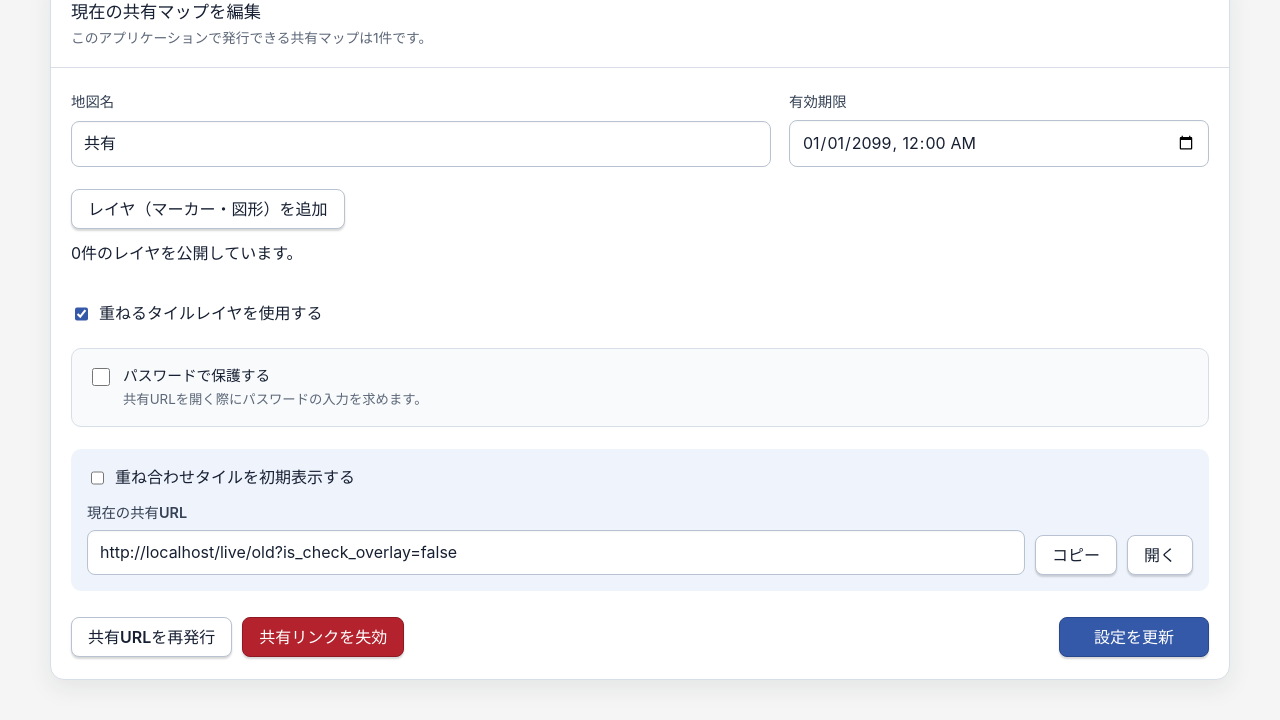
it: 共有リンク管理の失敗と確認操作 › 一覧取得とURLコピーの失敗を通知する
(page scrolled)
Click the button "コピー" at (1076, 555), box [1035,535,1117,575]
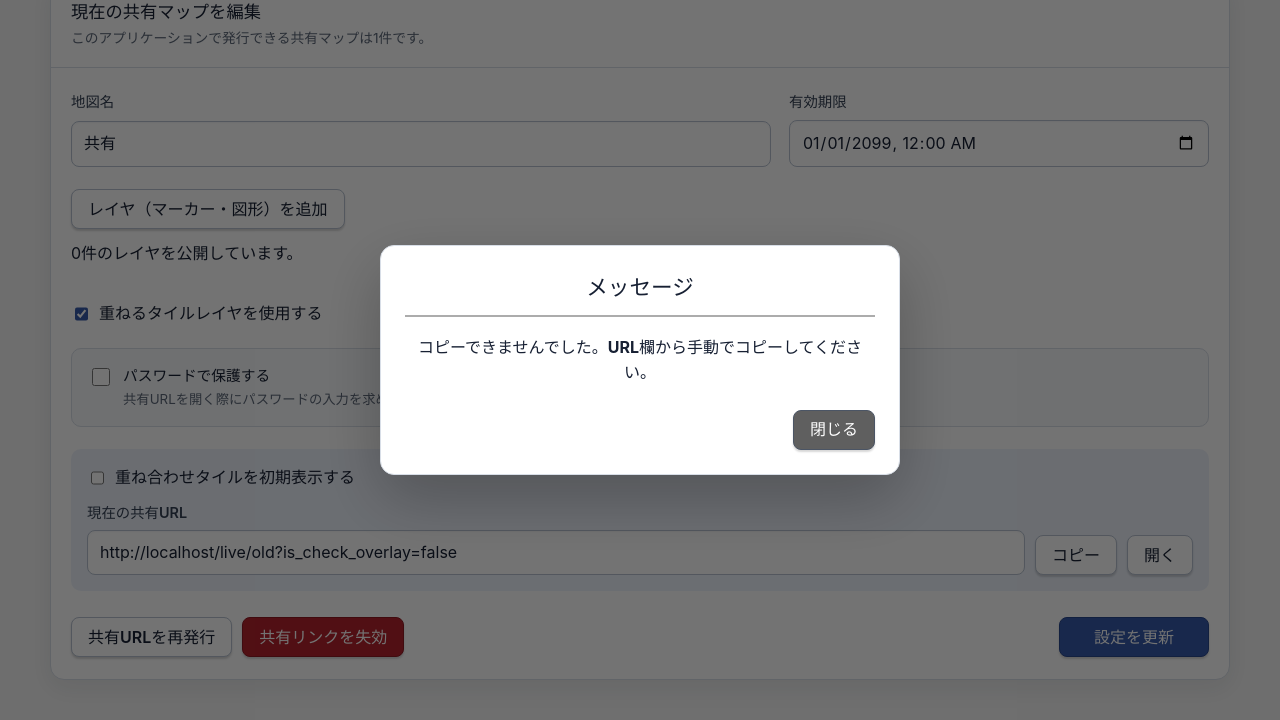
expect the text "手動でコピー" is shown: met, box [418,337,862,382]
